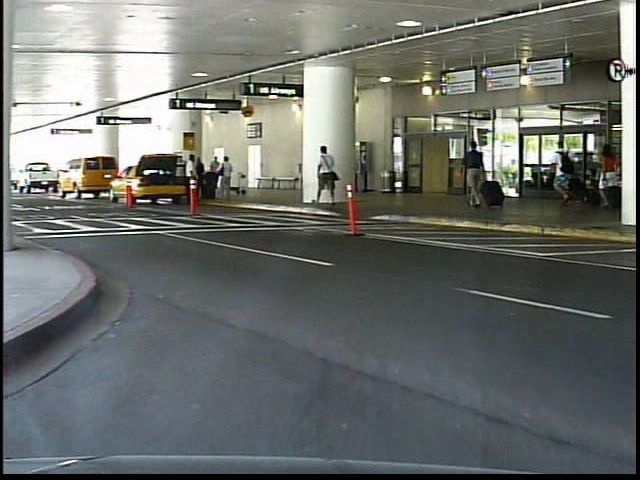person: (548, 138, 585, 218), (597, 133, 626, 218), (463, 138, 493, 214), (314, 143, 345, 211)
